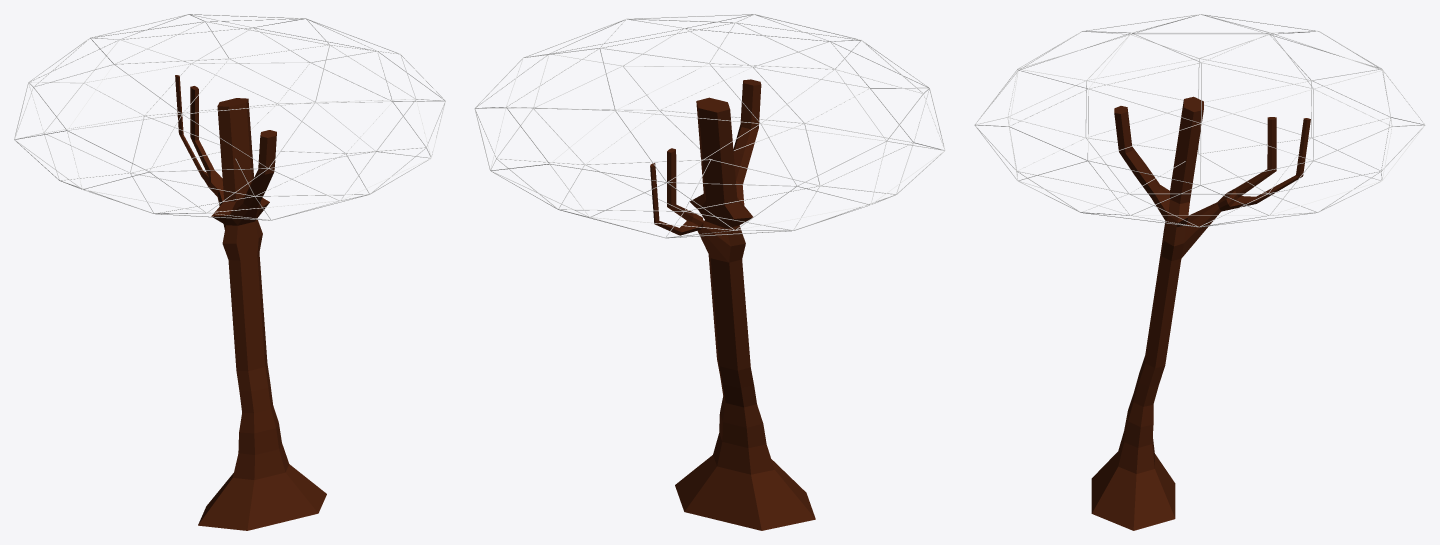
File: tree4.glb
3 views of the same model, side by side, from view 1: azimuth 30°, elevation 25°; view 2: azimuth 150°, elevation 25°; view 3: azimuth 270°, elevation 25° (orthographic). The views are drawn at different scales.
Parts seen in each view (by area): view 1: Cube.001, Icosphere; view 2: Cube.001, Icosphere; view 3: Cube.001, Icosphere.
Boxes of the visible parts, x1,y1,x2,y2 form: Cube.001: (175, 75, 326, 530); Icosphere: (14, 14, 445, 220); Cube.001: (650, 79, 815, 530); Icosphere: (474, 14, 945, 238); Cube.001: (1091, 96, 1310, 530); Icosphere: (974, 14, 1425, 227).
Bounding box in the file's own units: 2.16 × 2.44 × 2.27.
